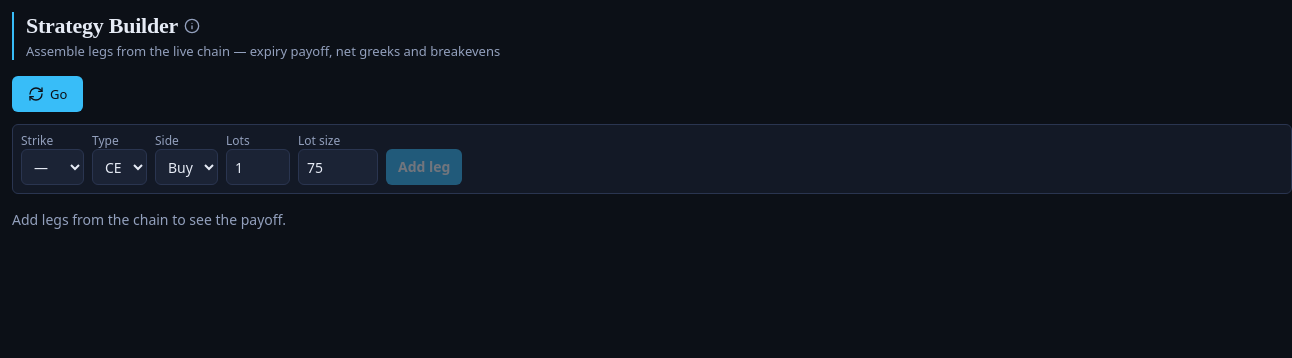
Test case: StrategyBuilderPage › adds a leg from the chain and shows the payoff summary
This screenshot has width=1292, height=358.
Step 1. Select "100" in the dropdown labelled "Strike" → (52, 167), box [21,149,84,185]
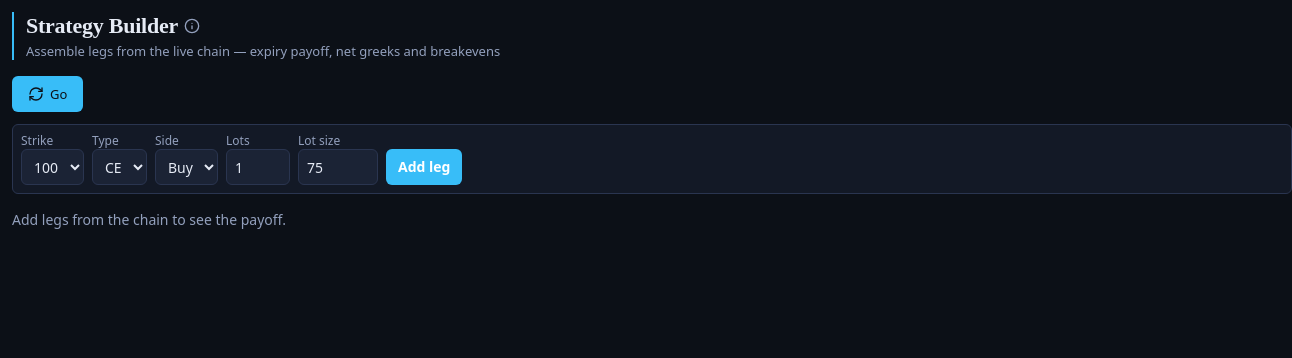
Step 2. Click the button "Add leg" → (424, 167), box [386,149,462,185]
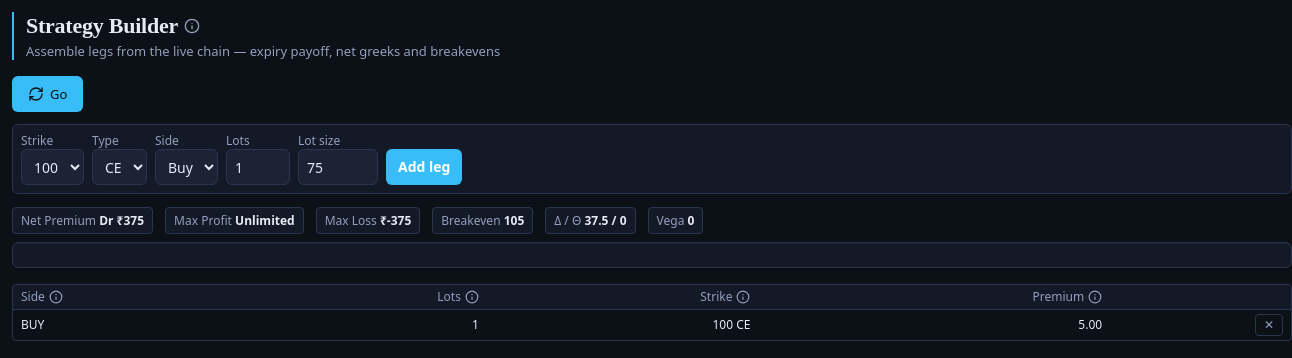
Result: the text "100 CE" is shown at [487,310,758,340]
Result: the text "Net Premium" is shown at [21,212,99,229]
Result: the text "Dr ₹375" is shown at [99,212,144,229]
